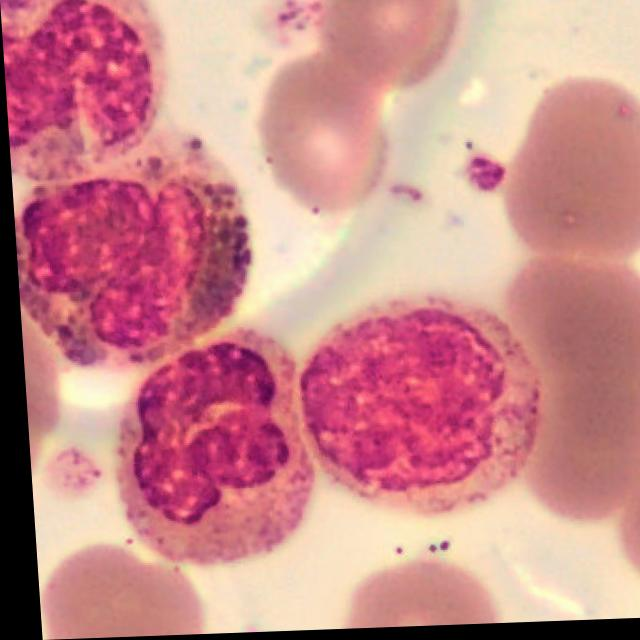Eosinofilo: (11, 150, 248, 373)
Metamielocito: (0, 0, 173, 190)
Mielocito: (297, 305, 537, 518)
Neutrofilo segmentado: (108, 331, 308, 567)
